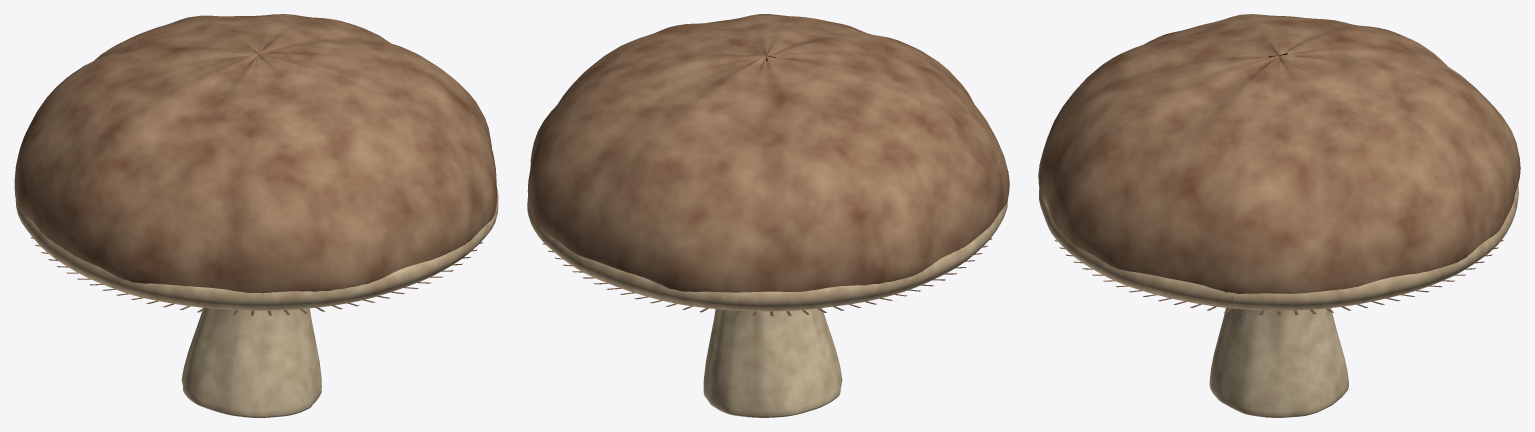
Rendered from mushroom.glb.
3 renders of one model, left to right at view 1: azimuth 30°, elevation 25°; view 2: azimuth 150°, elevation 25°; view 3: azimuth 270°, elevation 25°, orthographic.
Visible parts, largest first — view 1: mushroom.002; view 2: mushroom.002; view 3: mushroom.002.
Boxes of the visible parts, left/top/right/bottom form: mushroom.002: left=14, top=14, right=498, bottom=417; mushroom.002: left=527, top=14, right=1009, bottom=417; mushroom.002: left=1038, top=14, right=1520, bottom=417.
Size of the model in its own units: 0.1206 by 0.0946 by 0.1213.
1 material, 1 textured.
